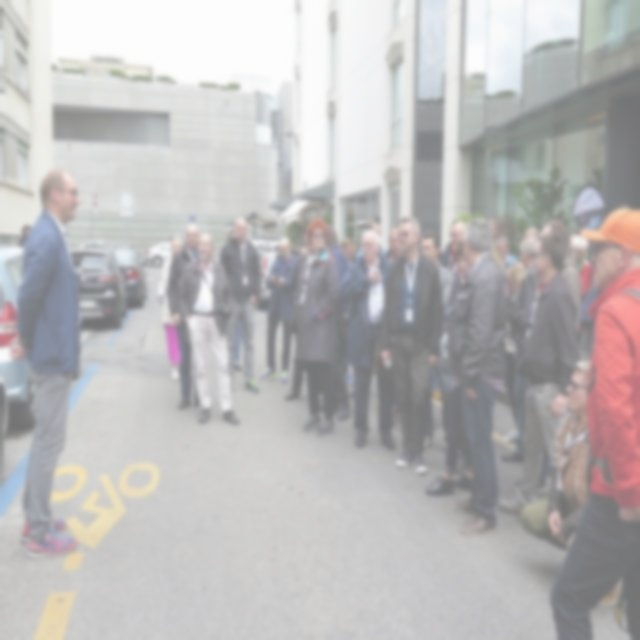pessoa: (544, 202, 640, 640), (7, 165, 84, 560), (518, 358, 624, 608), (498, 232, 580, 518), (443, 215, 510, 538), (378, 214, 444, 476), (336, 227, 398, 450), (424, 239, 475, 498), (284, 217, 342, 438), (176, 232, 241, 426), (499, 234, 538, 464), (166, 222, 213, 411), (218, 216, 262, 397), (420, 228, 452, 451), (258, 234, 300, 386), (320, 222, 350, 422), (538, 218, 584, 338), (500, 260, 527, 447), (156, 236, 184, 383), (226, 230, 245, 372), (568, 233, 597, 304), (288, 232, 314, 310), (356, 218, 389, 260), (582, 280, 602, 349), (382, 226, 406, 265), (496, 233, 518, 266), (447, 220, 468, 252), (564, 232, 578, 264), (445, 241, 458, 274), (340, 236, 354, 262), (18, 222, 32, 248), (487, 217, 499, 234), (352, 239, 361, 258), (616, 198, 633, 208), (296, 243, 308, 257), (166, 234, 174, 242)
